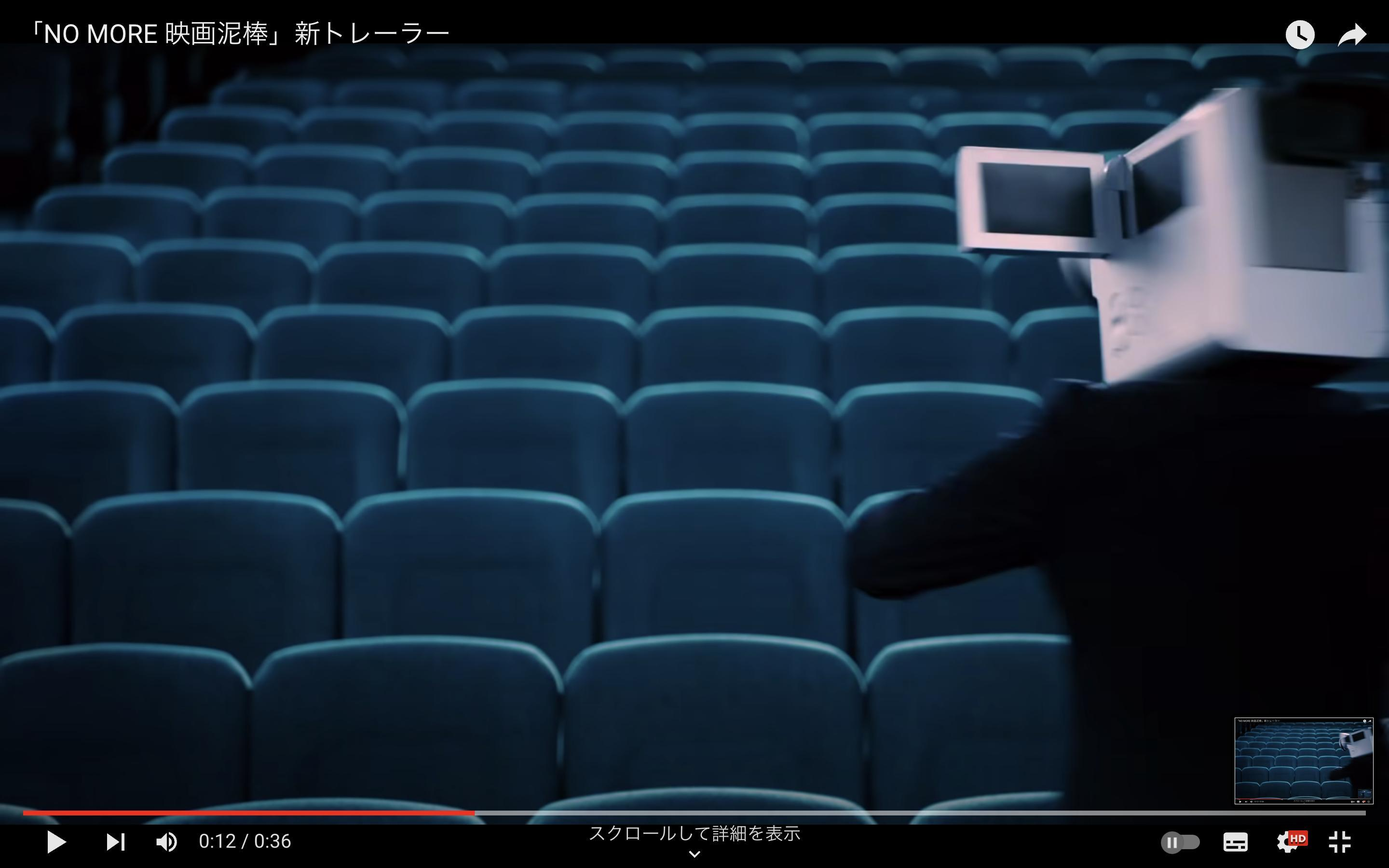no more kid: (925, 37, 1389, 425)
